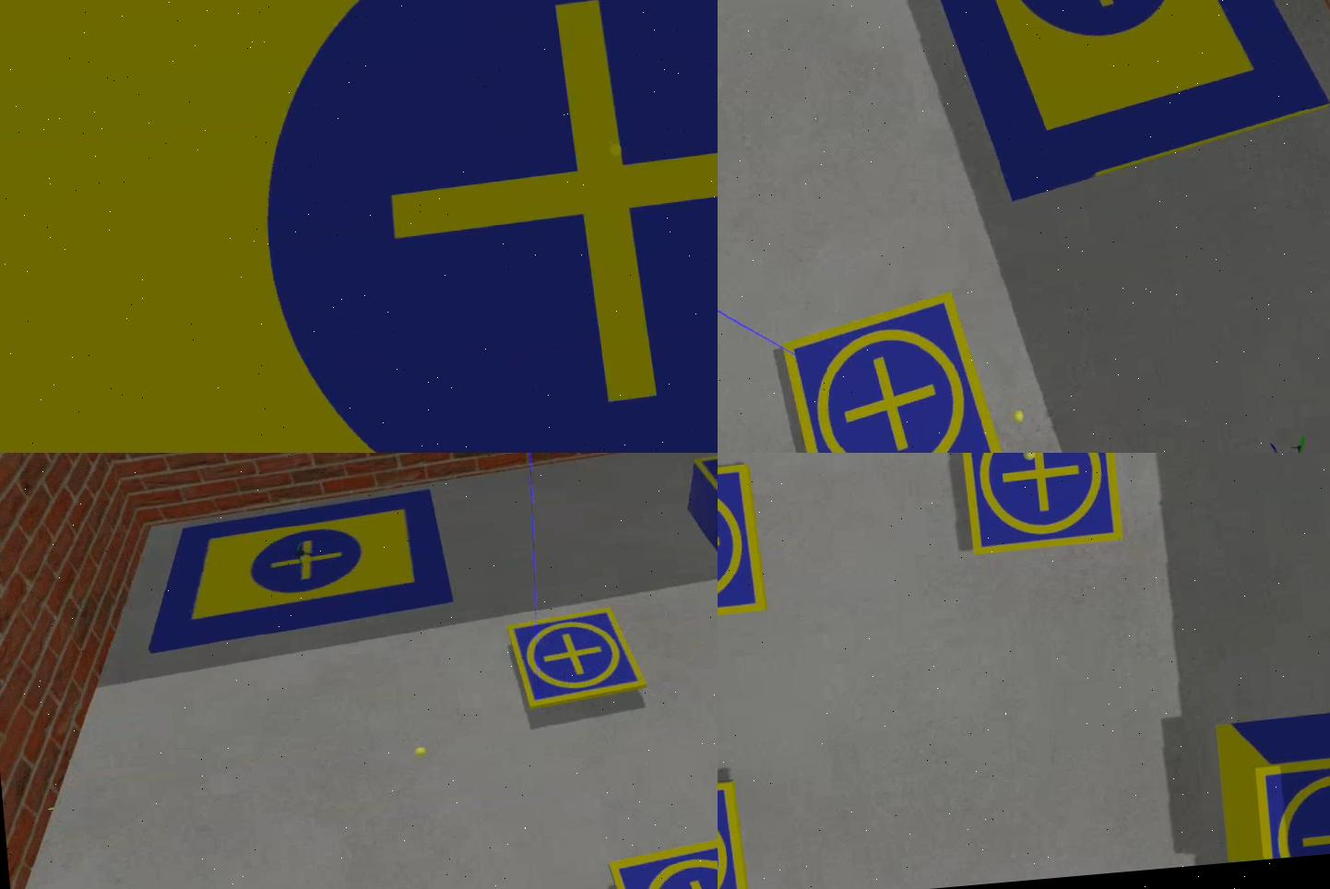large_base: (1, 1, 718, 454), (881, 1, 1330, 212), (139, 492, 461, 654)
small_base: (774, 290, 1012, 454), (956, 454, 1126, 559), (506, 606, 650, 711), (718, 463, 768, 631), (1254, 752, 1330, 861)
